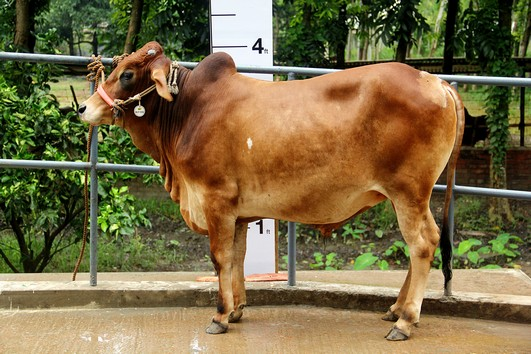cow: (73, 33, 470, 344)
